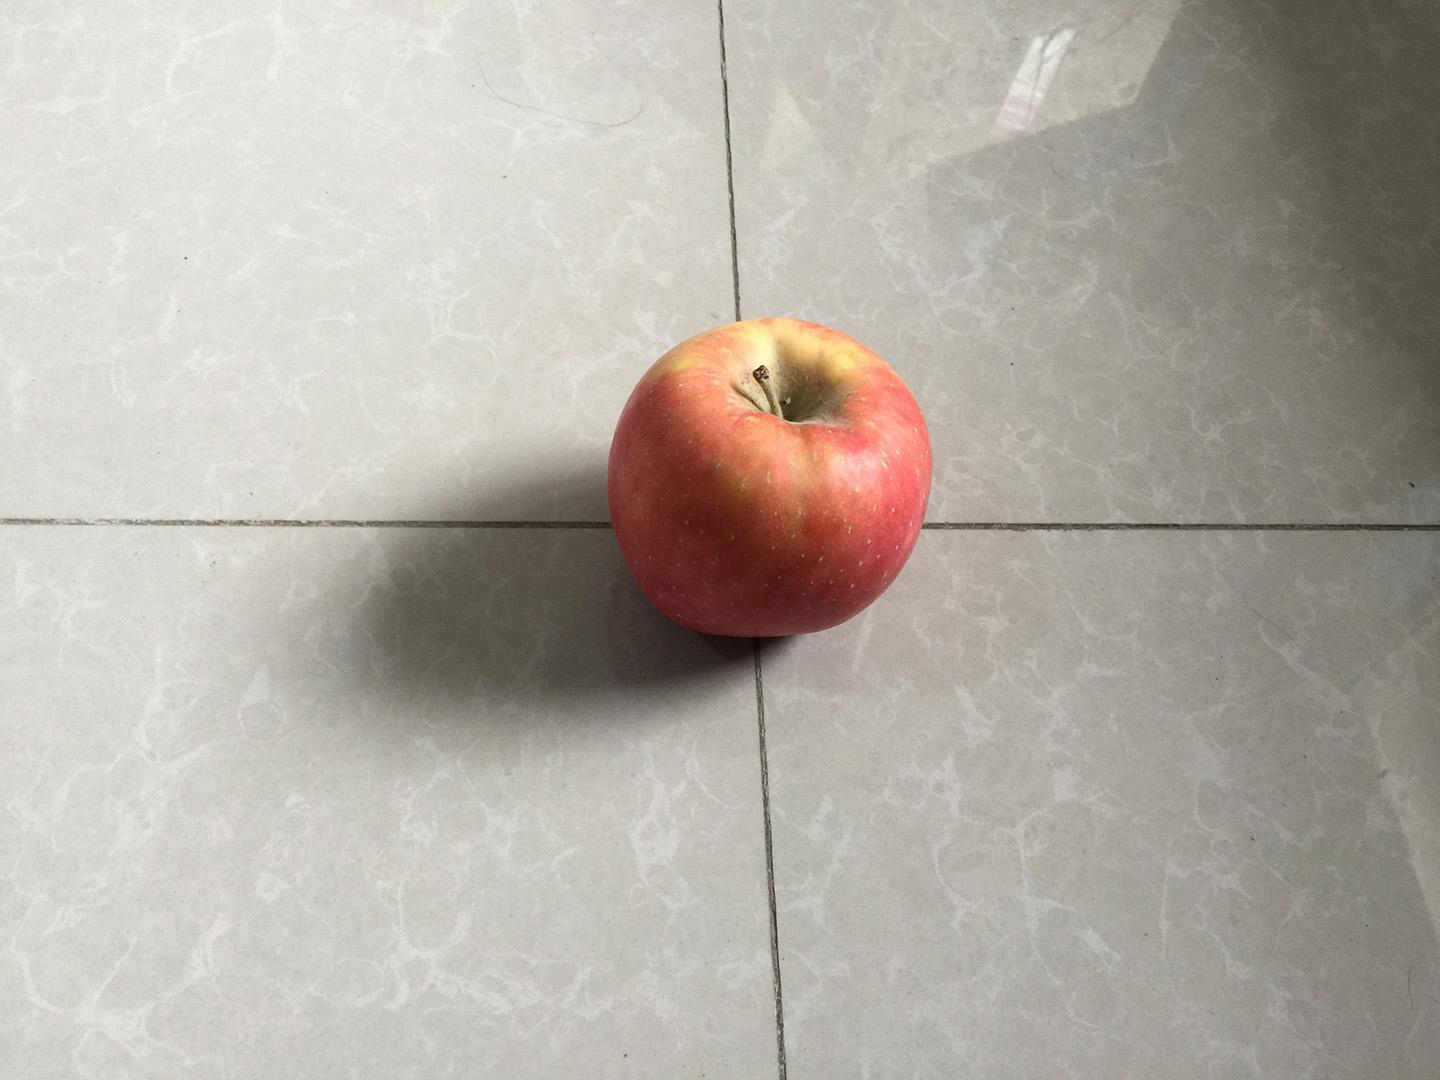apple: (599, 305, 942, 648)
